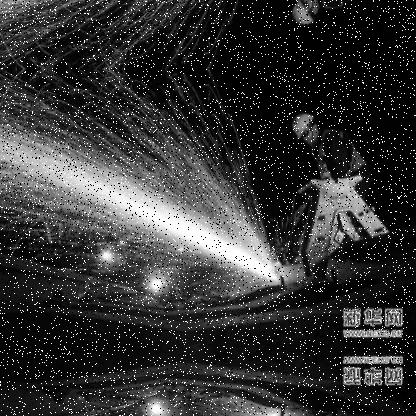Helmet: (294, 106, 324, 144), (289, 0, 318, 27)
